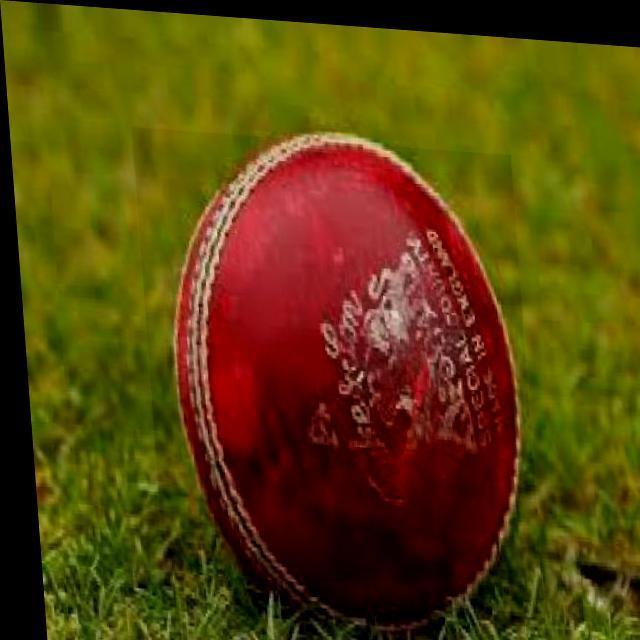-: (130, 125, 537, 630)
